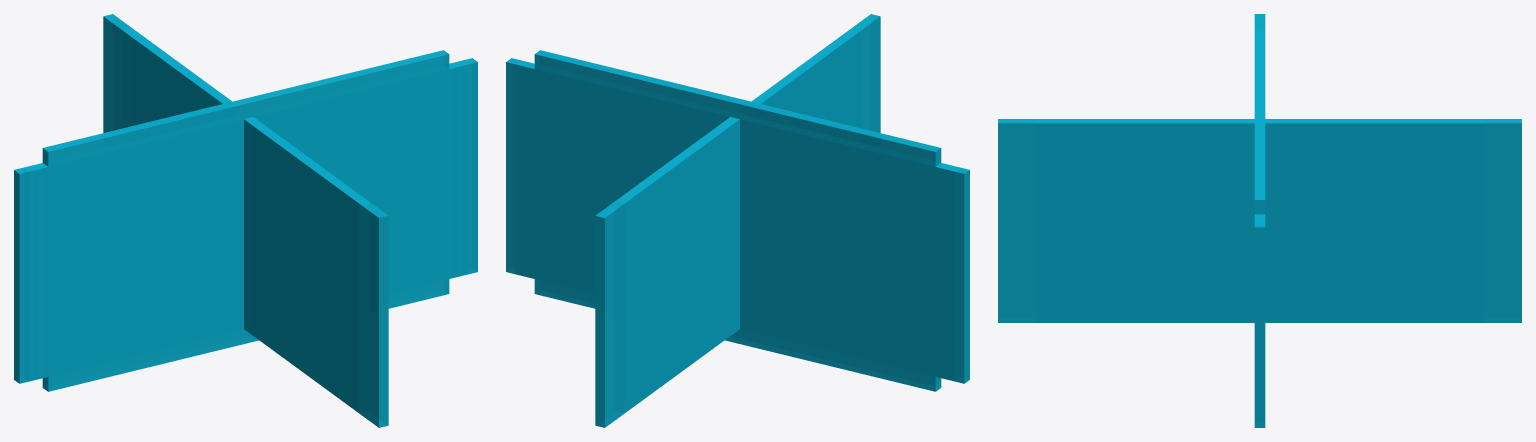
3 renders of one model, left to right at view 1: azimuth 30°, elevation 25°; view 2: azimuth 150°, elevation 25°; view 3: azimuth 270°, elevation 25°, orthographic. The views are drawn at different scales.
Parts seen in each view (by area): view 1: 玻璃 [702111][d0cdc8cb-7e3a-4954-800d-2c53409bf5d6-000ab69f], 玻璃 [707168][a07b4c53-6bdb-439b-a1bf-e9a81c907e3b-000aca60], 玻璃 [708594][a0503126-f1dd-4702-a2c7-bb1dd2dce73a-000acff2], 玻璃 [701976][d0cdc8cb-7e3a-4954-800d-2c53409bf5d6-000ab618], 玻璃 [711575][a0503126-f1dd-4702-a2c7-bb1dd2dce73a-000adb97]; view 2: 玻璃 [701469][d0cdc8cb-7e3a-4954-800d-2c53409bf5d6-000ab41d], 玻璃 [708594][a0503126-f1dd-4702-a2c7-bb1dd2dce73a-000acff2], 玻璃 [707168][a07b4c53-6bdb-439b-a1bf-e9a81c907e3b-000aca60], 玻璃 [702100][d0cdc8cb-7e3a-4954-800d-2c53409bf5d6-000ab694], 玻璃 [702111][d0cdc8cb-7e3a-4954-800d-2c53409bf5d6-000ab69f], 玻璃 [701976][d0cdc8cb-7e3a-4954-800d-2c53409bf5d6-000ab618], 玻璃 [711575][a0503126-f1dd-4702-a2c7-bb1dd2dce73a-000adb97]; view 3: 玻璃 [711575][a0503126-f1dd-4702-a2c7-bb1dd2dce73a-000adb97], 玻璃 [707168][a07b4c53-6bdb-439b-a1bf-e9a81c907e3b-000aca60], 玻璃 [701976][d0cdc8cb-7e3a-4954-800d-2c53409bf5d6-000ab618], 玻璃 [708594][a0503126-f1dd-4702-a2c7-bb1dd2dce73a-000acff2].
Boxes of the visible parts, box(x1,y1,x2,y2) form: 玻璃 [702111][d0cdc8cb-7e3a-4954-800d-2c53409bf5d6-000ab69f]: box(29, 64, 468, 381); 玻璃 [707168][a07b4c53-6bdb-439b-a1bf-e9a81c907e3b-000aca60]: box(103, 14, 388, 427); 玻璃 [708594][a0503126-f1dd-4702-a2c7-bb1dd2dce73a-000acff2]: box(42, 50, 449, 391); 玻璃 [701976][d0cdc8cb-7e3a-4954-800d-2c53409bf5d6-000ab618]: box(14, 58, 477, 383); 玻璃 [711575][a0503126-f1dd-4702-a2c7-bb1dd2dce73a-000adb97]: box(123, 32, 269, 222); 玻璃 [701469][d0cdc8cb-7e3a-4954-800d-2c53409bf5d6-000ab41d]: box(534, 69, 935, 374); 玻璃 [708594][a0503126-f1dd-4702-a2c7-bb1dd2dce73a-000acff2]: box(534, 50, 941, 391); 玻璃 [707168][a07b4c53-6bdb-439b-a1bf-e9a81c907e3b-000aca60]: box(595, 14, 880, 427); 玻璃 [702100][d0cdc8cb-7e3a-4954-800d-2c53409bf5d6-000ab694]: box(525, 67, 945, 377); 玻璃 [702111][d0cdc8cb-7e3a-4954-800d-2c53409bf5d6-000ab69f]: box(515, 64, 954, 381); 玻璃 [701976][d0cdc8cb-7e3a-4954-800d-2c53409bf5d6-000ab618]: box(506, 58, 969, 383); 玻璃 [711575][a0503126-f1dd-4702-a2c7-bb1dd2dce73a-000adb97]: box(625, 97, 778, 334); 玻璃 [711575][a0503126-f1dd-4702-a2c7-bb1dd2dce73a-000adb97]: box(1035, 123, 1484, 322); 玻璃 [707168][a07b4c53-6bdb-439b-a1bf-e9a81c907e3b-000aca60]: box(998, 119, 1521, 322); 玻璃 [701976][d0cdc8cb-7e3a-4954-800d-2c53409bf5d6-000ab618]: box(1254, 214, 1265, 426); 玻璃 [708594][a0503126-f1dd-4702-a2c7-bb1dd2dce73a-000acff2]: box(1254, 14, 1265, 427).
Size of the model in its own units: 1.2 by 0.6001 by 1.25.
